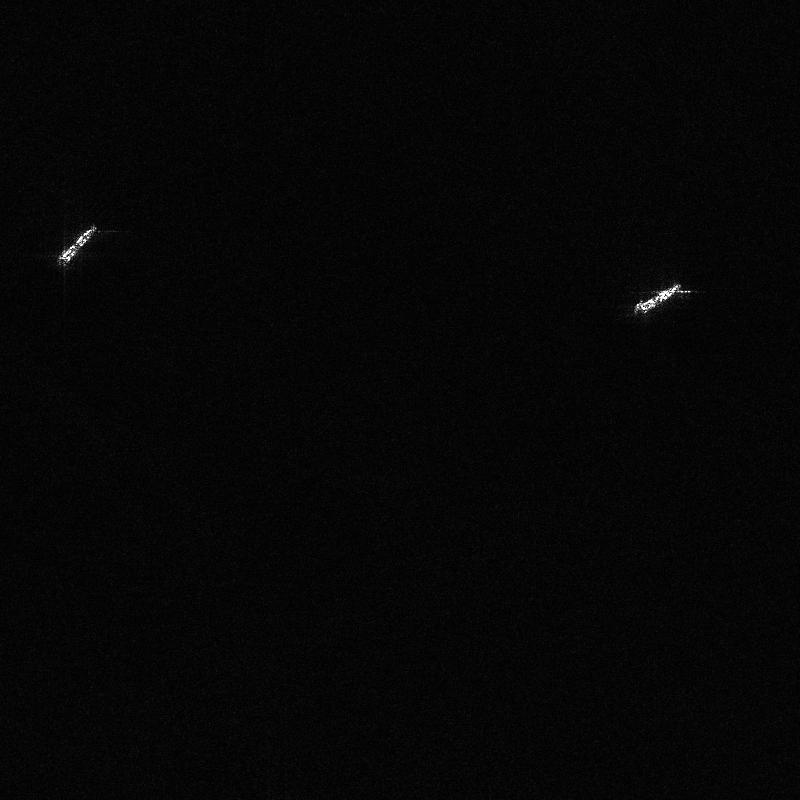ship: (57, 225, 96, 266), (632, 283, 681, 314)
